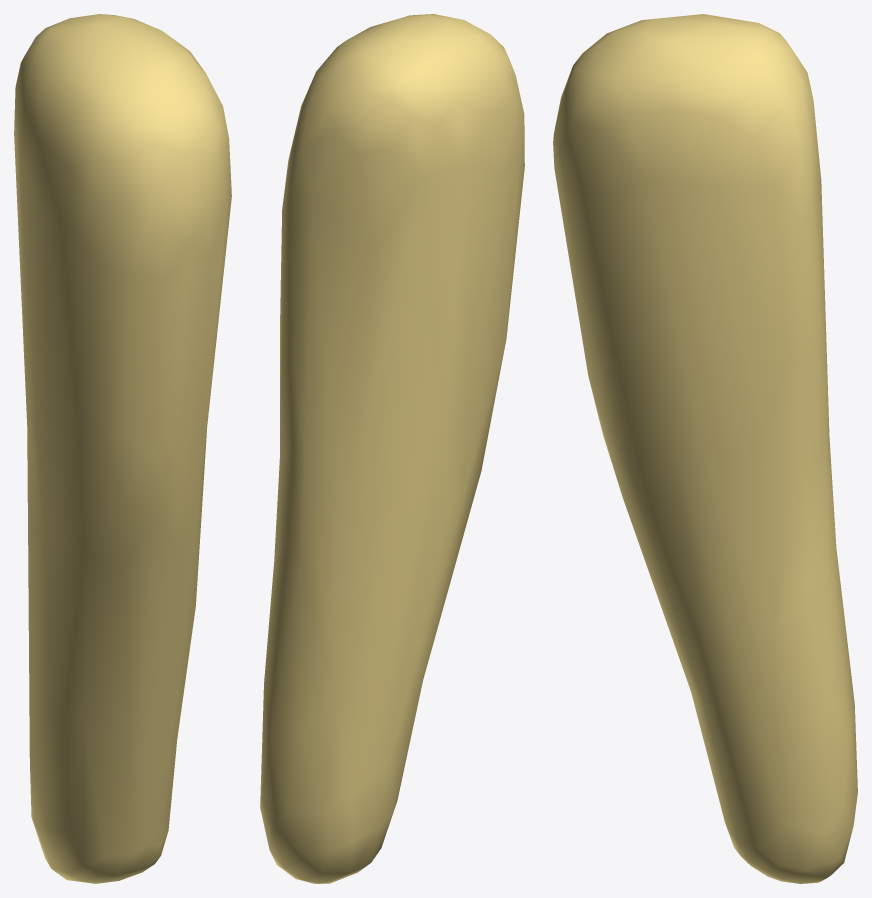
3 views of the same model, side by side, from view 1: azimuth 30°, elevation 25°; view 2: azimuth 150°, elevation 25°; view 3: azimuth 270°, elevation 25° (orthographic). The views are drawn at different scales.
Visible parts, largest first — view 1: ZA_8f056114cf89e54f; view 2: ZA_8f056114cf89e54f; view 3: ZA_8f056114cf89e54f.
Boxes of the visible parts, box(x1,y1,x2,y2) form: ZA_8f056114cf89e54f: box(14, 14, 231, 883); ZA_8f056114cf89e54f: box(260, 14, 524, 883); ZA_8f056114cf89e54f: box(553, 14, 857, 883).
Bounding box in the file's own units: 0.004 × 0.0184 × 0.0061.
